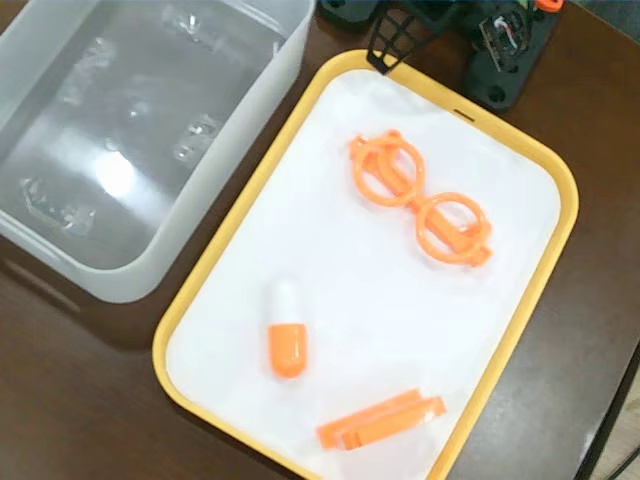pill: (264, 277, 313, 381)
